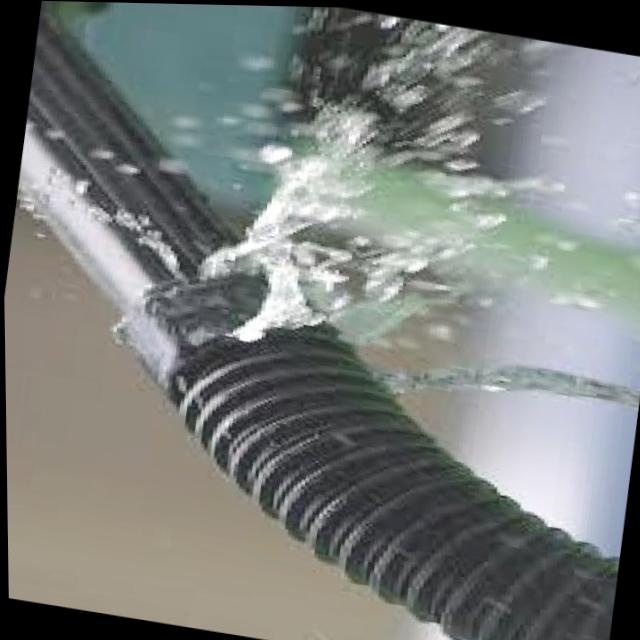leak: (201, 13, 632, 340)
